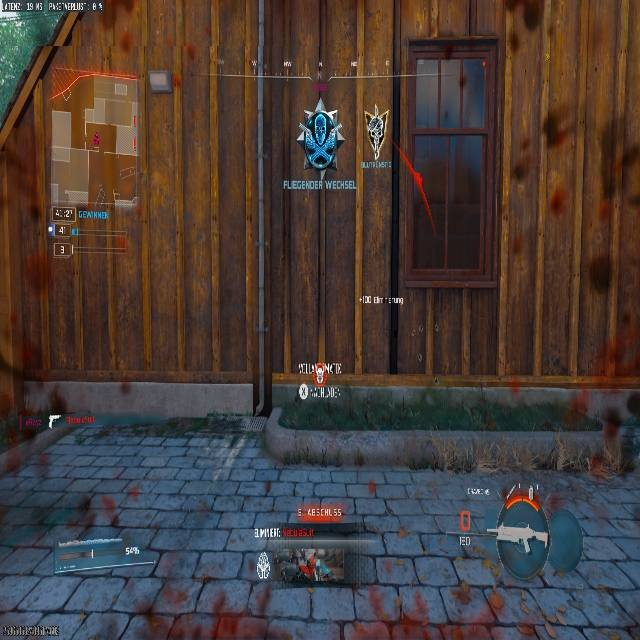player: (302, 102, 344, 181)
